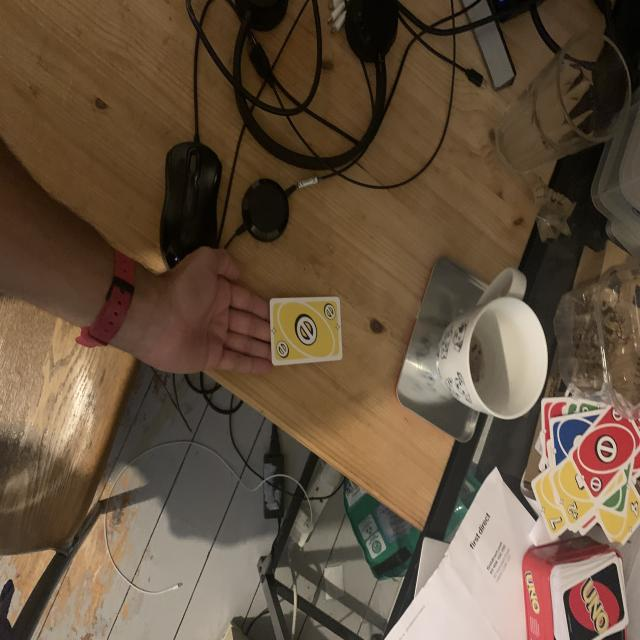lyellowskip-20: (321, 301, 337, 321)
